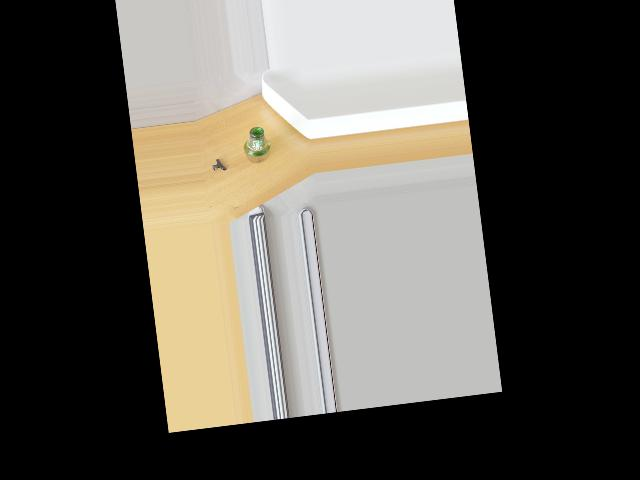beer: (241, 125, 273, 164)
